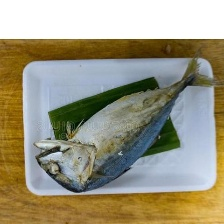foam_box: (17, 53, 220, 201)
